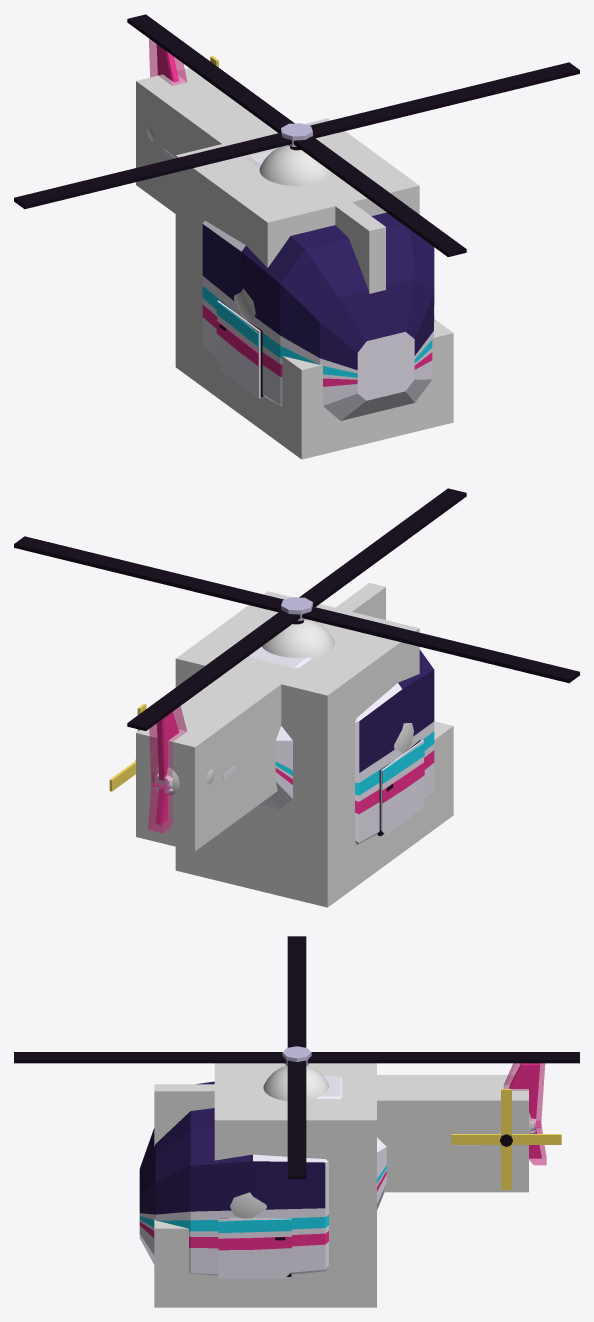
The model's file is heli.glb.
The picture shows the model from 3 angles, top to bottom: view 1: azimuth 30°, elevation 25°; view 2: azimuth 150°, elevation 25°; view 3: azimuth 270°, elevation 25°; orthographic projection. The views are drawn at different scales.
Parts seen in each view (by area): view 1: Cube, Cube.006, Cube.004, Cube.007, Cube.008, Cube.005, Cube.001, door_R, Sphere.005; view 2: Cube.006, Cube.007, Cube.004, Cube, door_R, Cube.008, Sphere.005, Cube.001; view 3: Cube.006, Cube, Cube.007, Cube.004, door_L, Cube.005, Cube.001, Cube.002, Sphere.005, Sphere.007.
Boxes of the visible parts, x1,y1,x2,y2 form: Cube: (149, 38, 434, 420); Cube.006: (175, 118, 419, 434); Cube.004: (14, 14, 579, 256); Cube.007: (136, 68, 274, 213); Cube.008: (267, 356, 369, 459); Cube.005: (386, 319, 453, 438); Cube.001: (335, 202, 385, 442); door_R: (216, 300, 260, 398); Sphere.005: (259, 145, 333, 185); Cube.006: (175, 591, 419, 907); Cube.007: (136, 671, 281, 851); Cube.004: (14, 488, 579, 730); Cube: (148, 620, 434, 844); door_R: (380, 740, 424, 834); Cube.008: (419, 721, 453, 839); Sphere.005: (262, 619, 334, 658); Cube.001: (335, 583, 385, 619); Cube.006: (214, 1063, 376, 1307); Cube: (139, 1063, 546, 1276); Cube.007: (377, 1075, 528, 1192); Cube.004: (14, 936, 579, 1178); door_L: (218, 1218, 291, 1278); Cube.005: (154, 1219, 214, 1307); Cube.001: (154, 1084, 214, 1146); Cube.002: (451, 1089, 561, 1189); Sphere.005: (263, 1065, 329, 1101); Sphere.007: (230, 1192, 266, 1218).
Size of the model in its own units: 3.9 by 1.71 by 3.9.
Materials: 3 (3 with a texture image).
